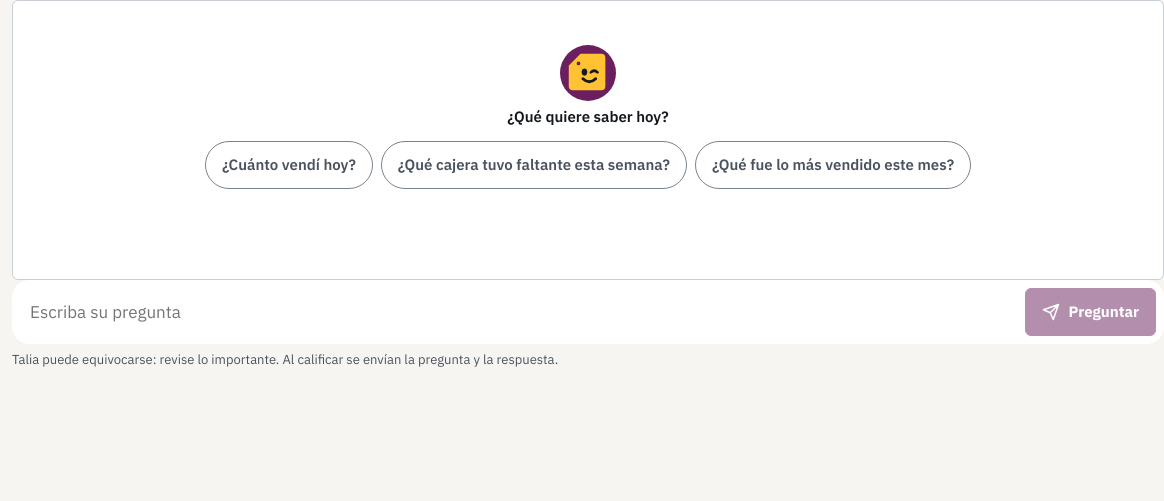
Test case: TK-340: a text result (a connection code) is shown on the card
Click the button "¿Cuánto vendí hoy?" at (289, 164), box [205,140,373,188]
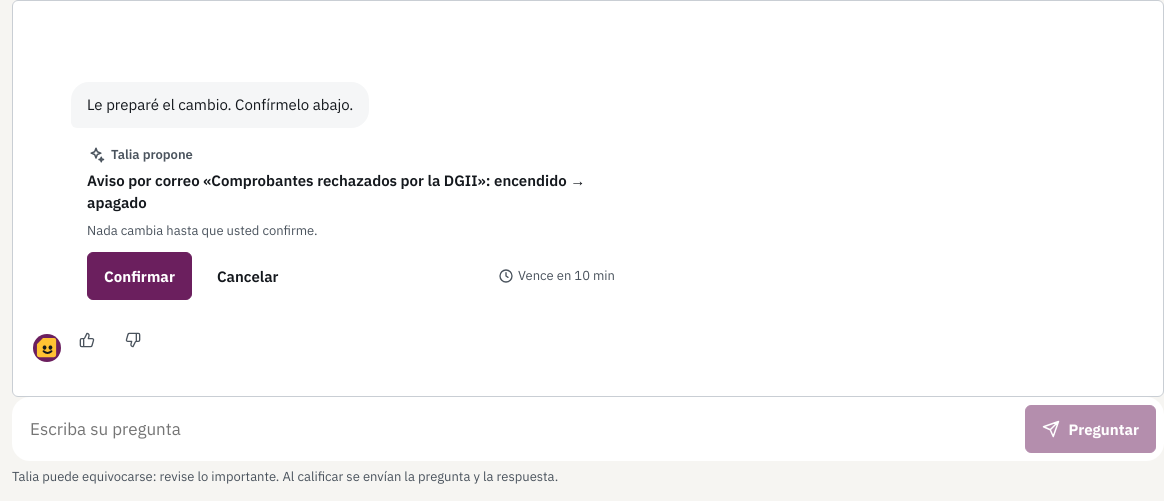
Click the button "Confirmar" at (139, 276), box [87,252,192,300]
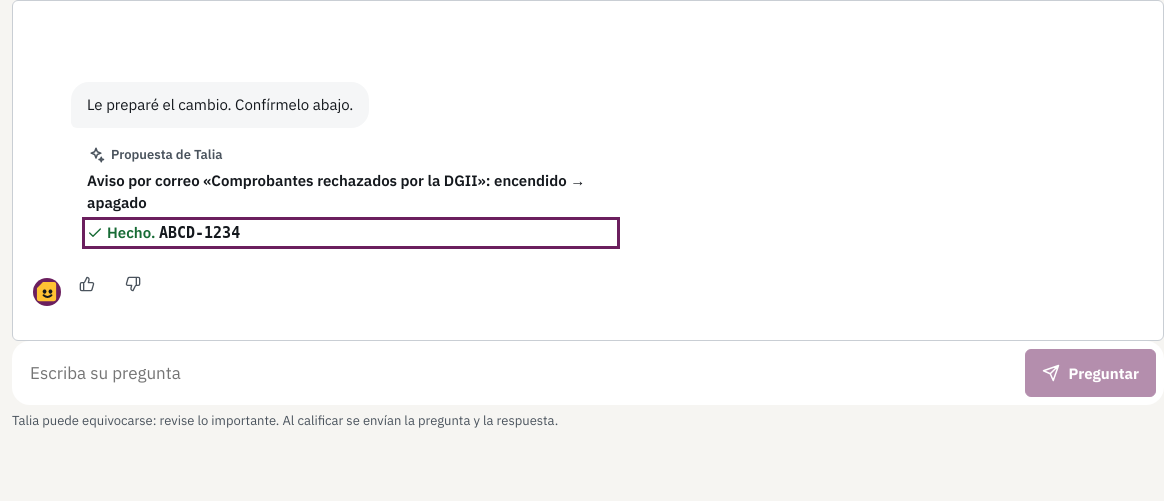
Result: the message reads "Hecho. ABCD-1234" at [87,222,240,242]
